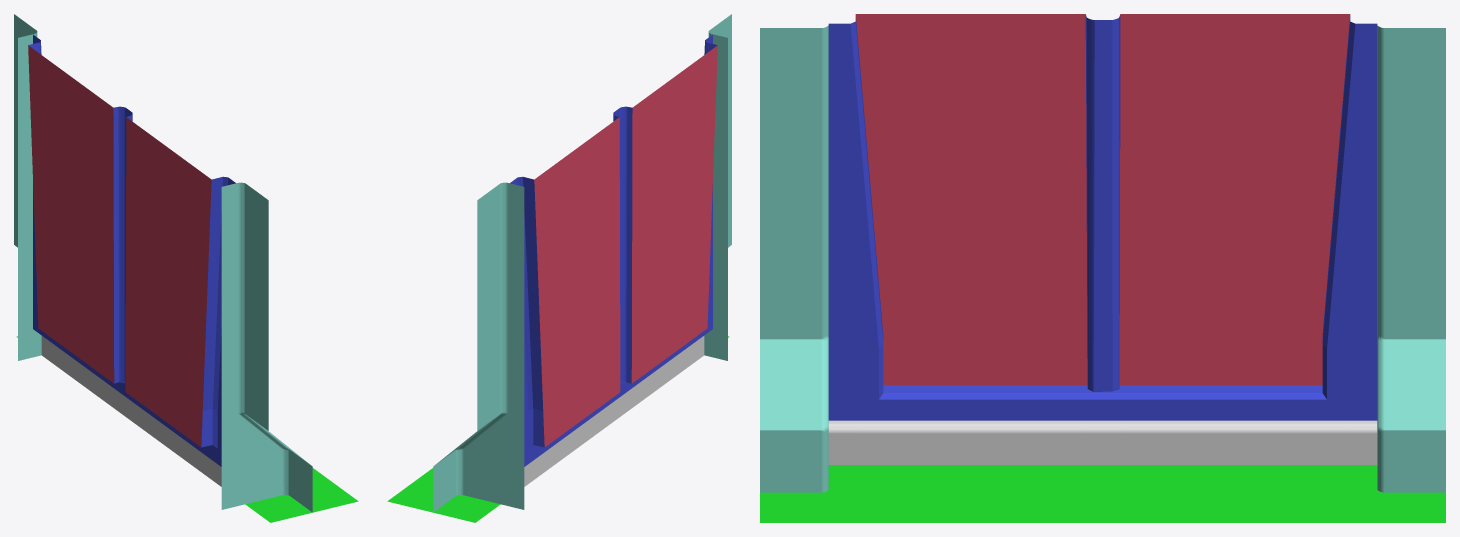
File: Wall.fbx
The picture shows the model from 3 angles, left to right: view 1: azimuth 30°, elevation 25°; view 2: azimuth 150°, elevation 25°; view 3: azimuth 270°, elevation 25°; orthographic projection. The views are drawn at different scales.
Parts seen in each view (by area): view 1: Wall.001; view 2: Wall.001; view 3: Wall.001.
Boxes of the visible parts, bbox=[...] form: Wall.001: bbox=[14, 14, 358, 522]; Wall.001: bbox=[387, 14, 731, 522]; Wall.001: bbox=[760, 14, 1445, 522].
Bounding box in the file's own units: 253 × 700 × 999.
